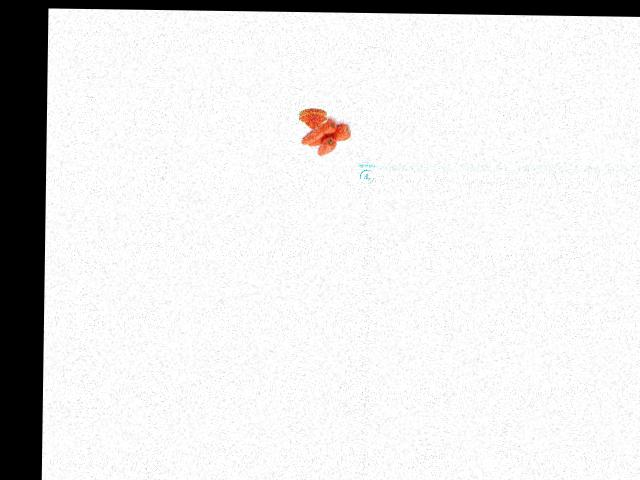carrot: (299, 120, 336, 147)
